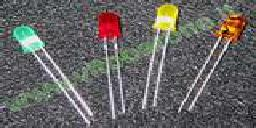LED: (141, 3, 179, 114), (94, 11, 130, 120), (214, 10, 249, 51), (12, 23, 49, 57)
